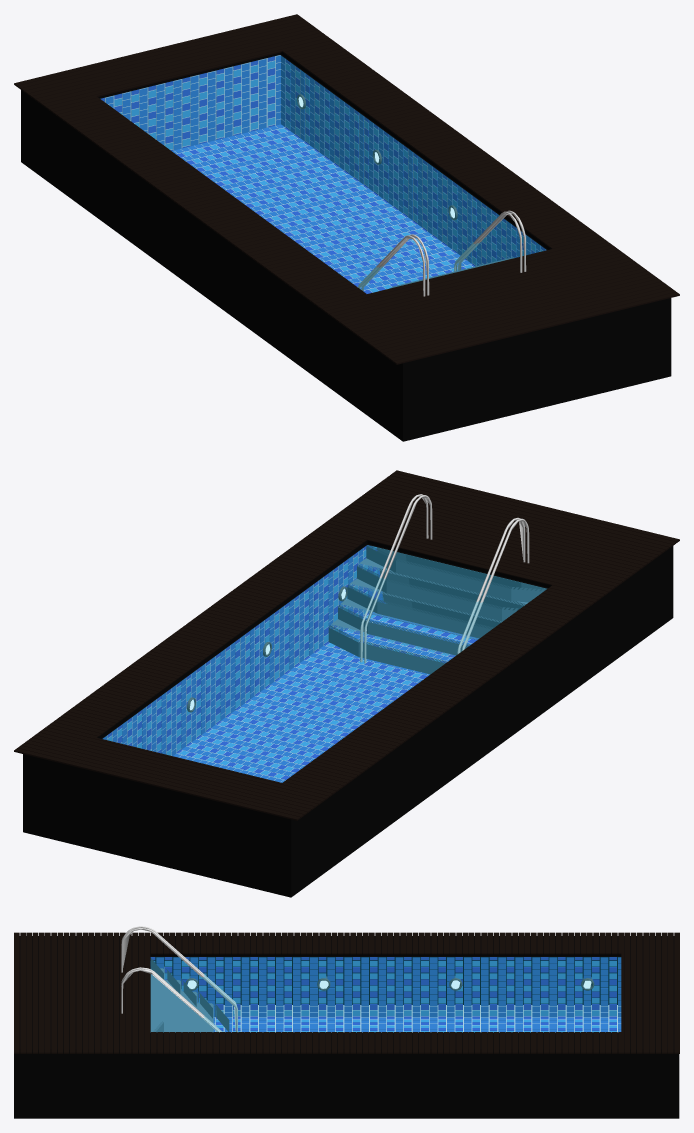
The model's file is wave_pool.glb.
The picture shows the model from 3 angles, top to bottom: view 1: azimuth 30°, elevation 25°; view 2: azimuth 150°, elevation 25°; view 3: azimuth 270°, elevation 25°; orthographic projection. The views are drawn at different scales.
Parts seen in each view (by area): view 1: Object_5; view 2: Object_5; view 3: Object_5.
Part boxes in pixels (x1,y1,x2,y2): Object_5: (14,14,679,441); Object_5: (14,470,679,897); Object_5: (14,926,679,1118).
Size of the model in its own units: 3.22 by 1.46 by 7.53.
